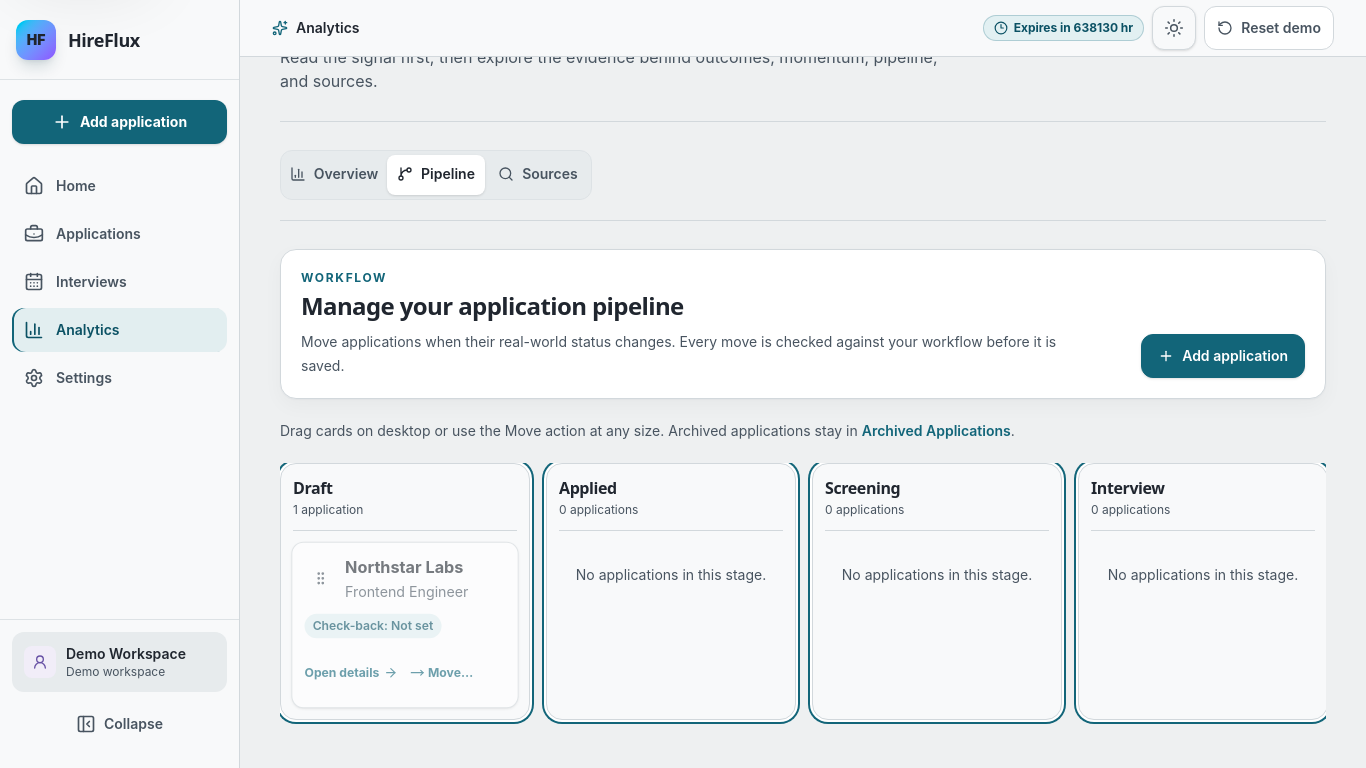
Test case: Pipeline board › requires an applied date before a draft can enter the active workflow
The width and height of the screenshot is (1366, 768).
(page scrolled)
Click the button "Move…". click: [441, 673]
box: [410,651,473,695]
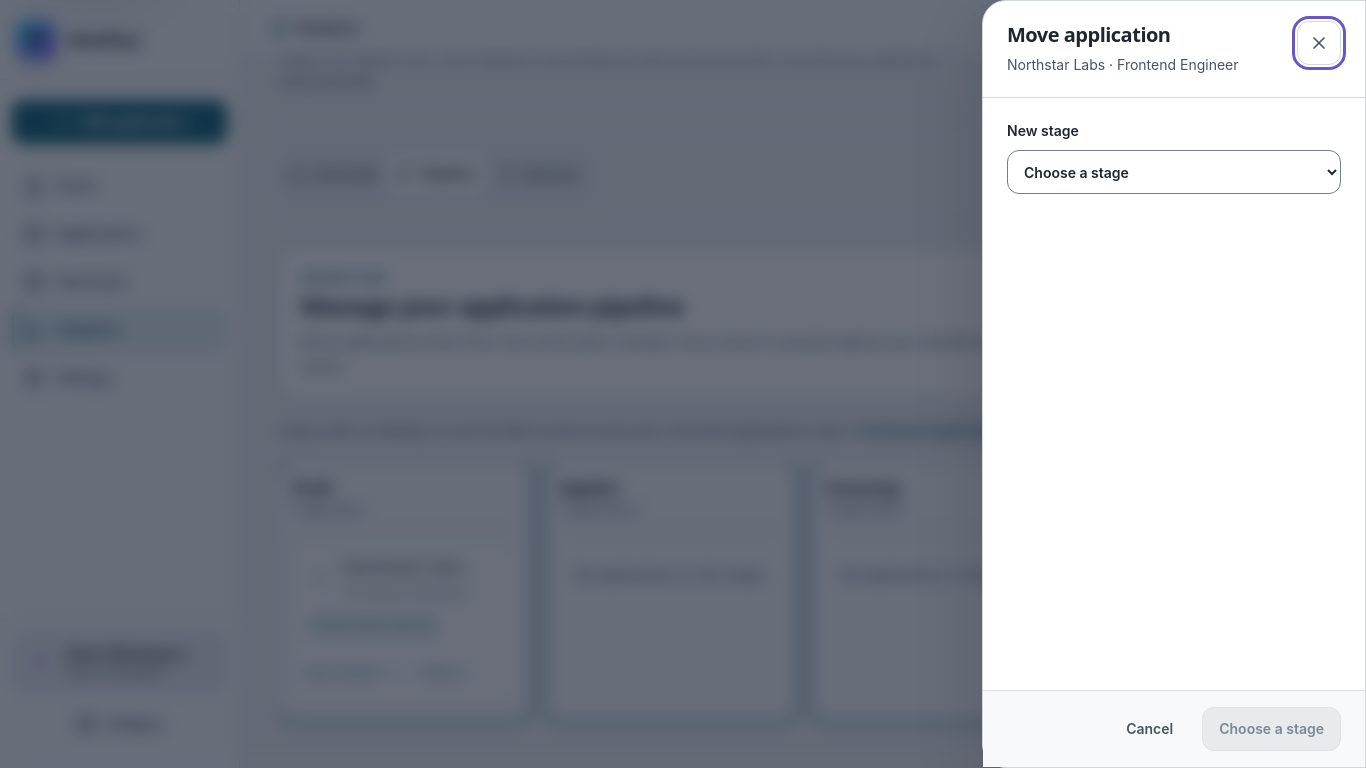
Select "Applied" in the dropdown labelled "New stage". click: [1174, 172]
box: [1007,150,1341,194]
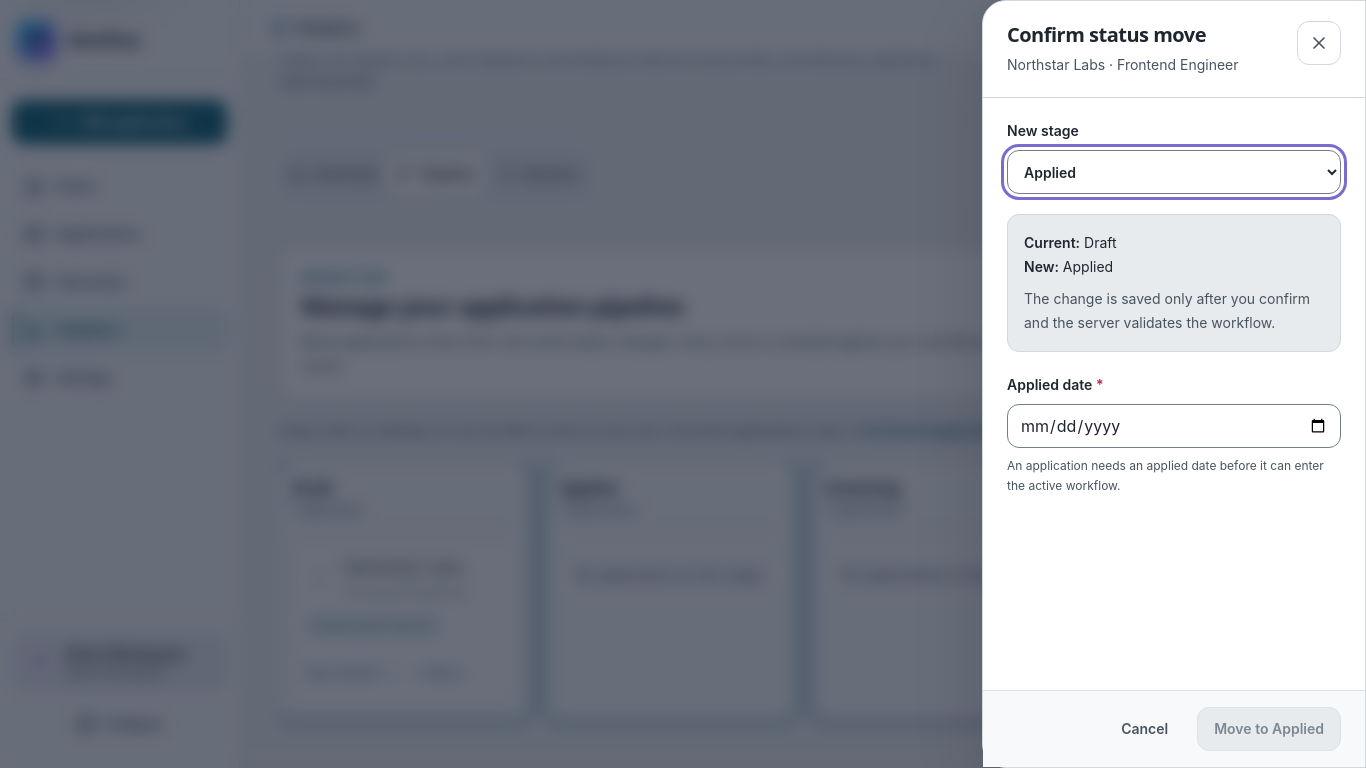
Expected: the button "Move to Applied" is disabled, [1197,707,1341,751]
Expected: the date field labelled "Applied date *" is shown
Type "2026-08-24" into the date field labelled "Applied date *". click: [1174, 426]
box: [1007,404,1341,448]
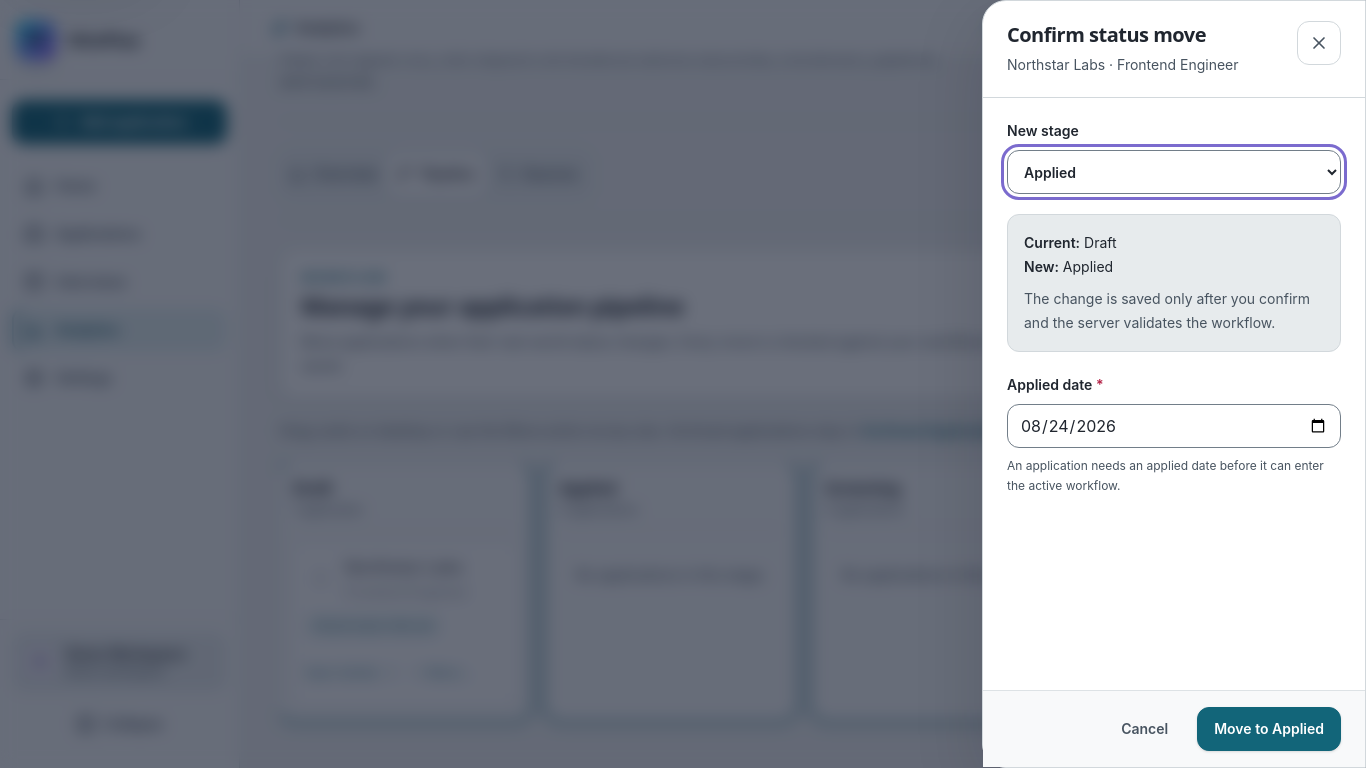
Expected: the button "Move to Applied" is enabled, [1197,707,1341,751]
